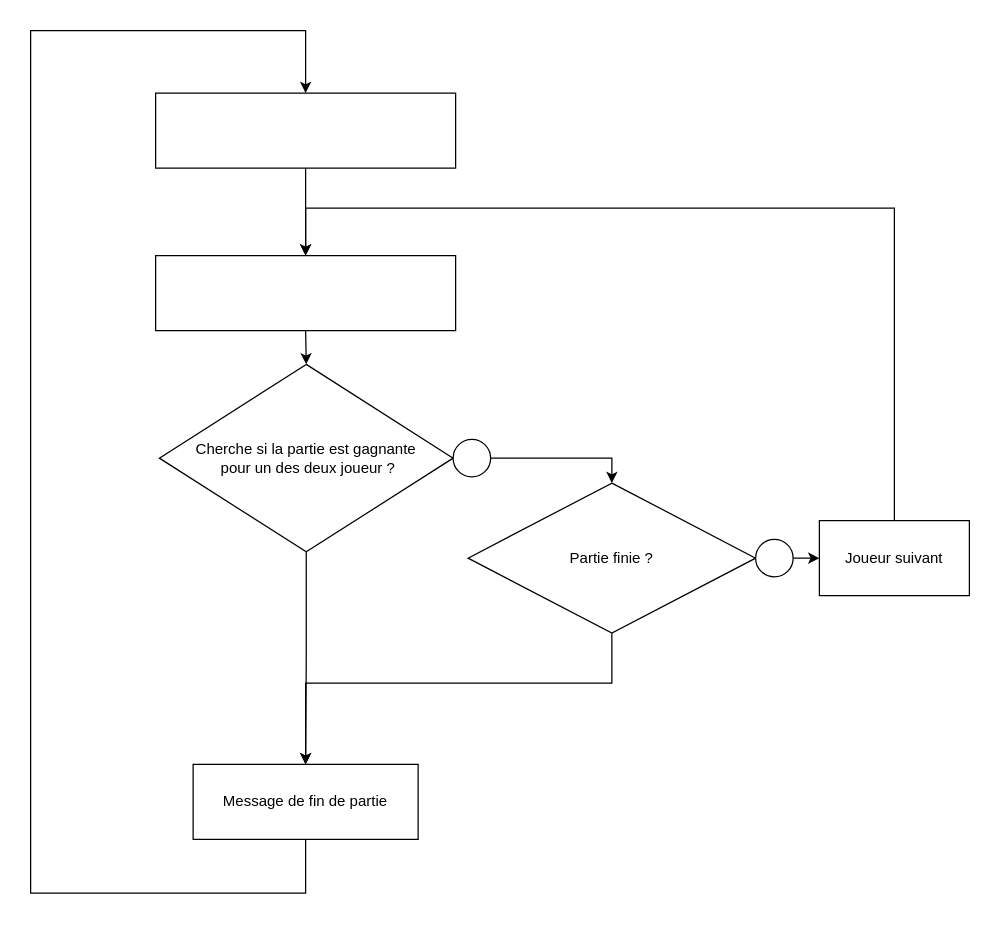
Image size: 991x925. Some labels were removed from this diagram. The box of each missing label's shape, as (x1, y1, x2, y2) in pixels:
Commence par un joueur: (154, 92, 456, 168)
Sasie du joueur: (154, 254, 456, 331)
